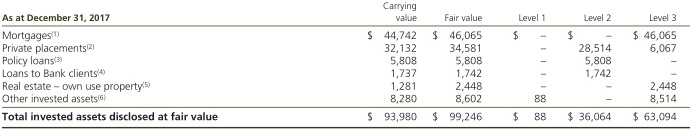column: (1, 1, 219, 131), (444, 1, 484, 131), (642, 1, 679, 131), (382, 1, 418, 131), (579, 1, 613, 131), (517, 1, 547, 131), (366, 1, 373, 131), (512, 1, 519, 131), (567, 1, 574, 131), (632, 1, 639, 131), (431, 1, 437, 131)
row: (1, 54, 691, 67), (1, 67, 692, 79), (1, 111, 691, 123), (1, 30, 692, 41), (1, 93, 691, 104), (1, 1, 692, 11), (1, 43, 692, 53), (1, 81, 691, 91), (1, 13, 692, 22)
